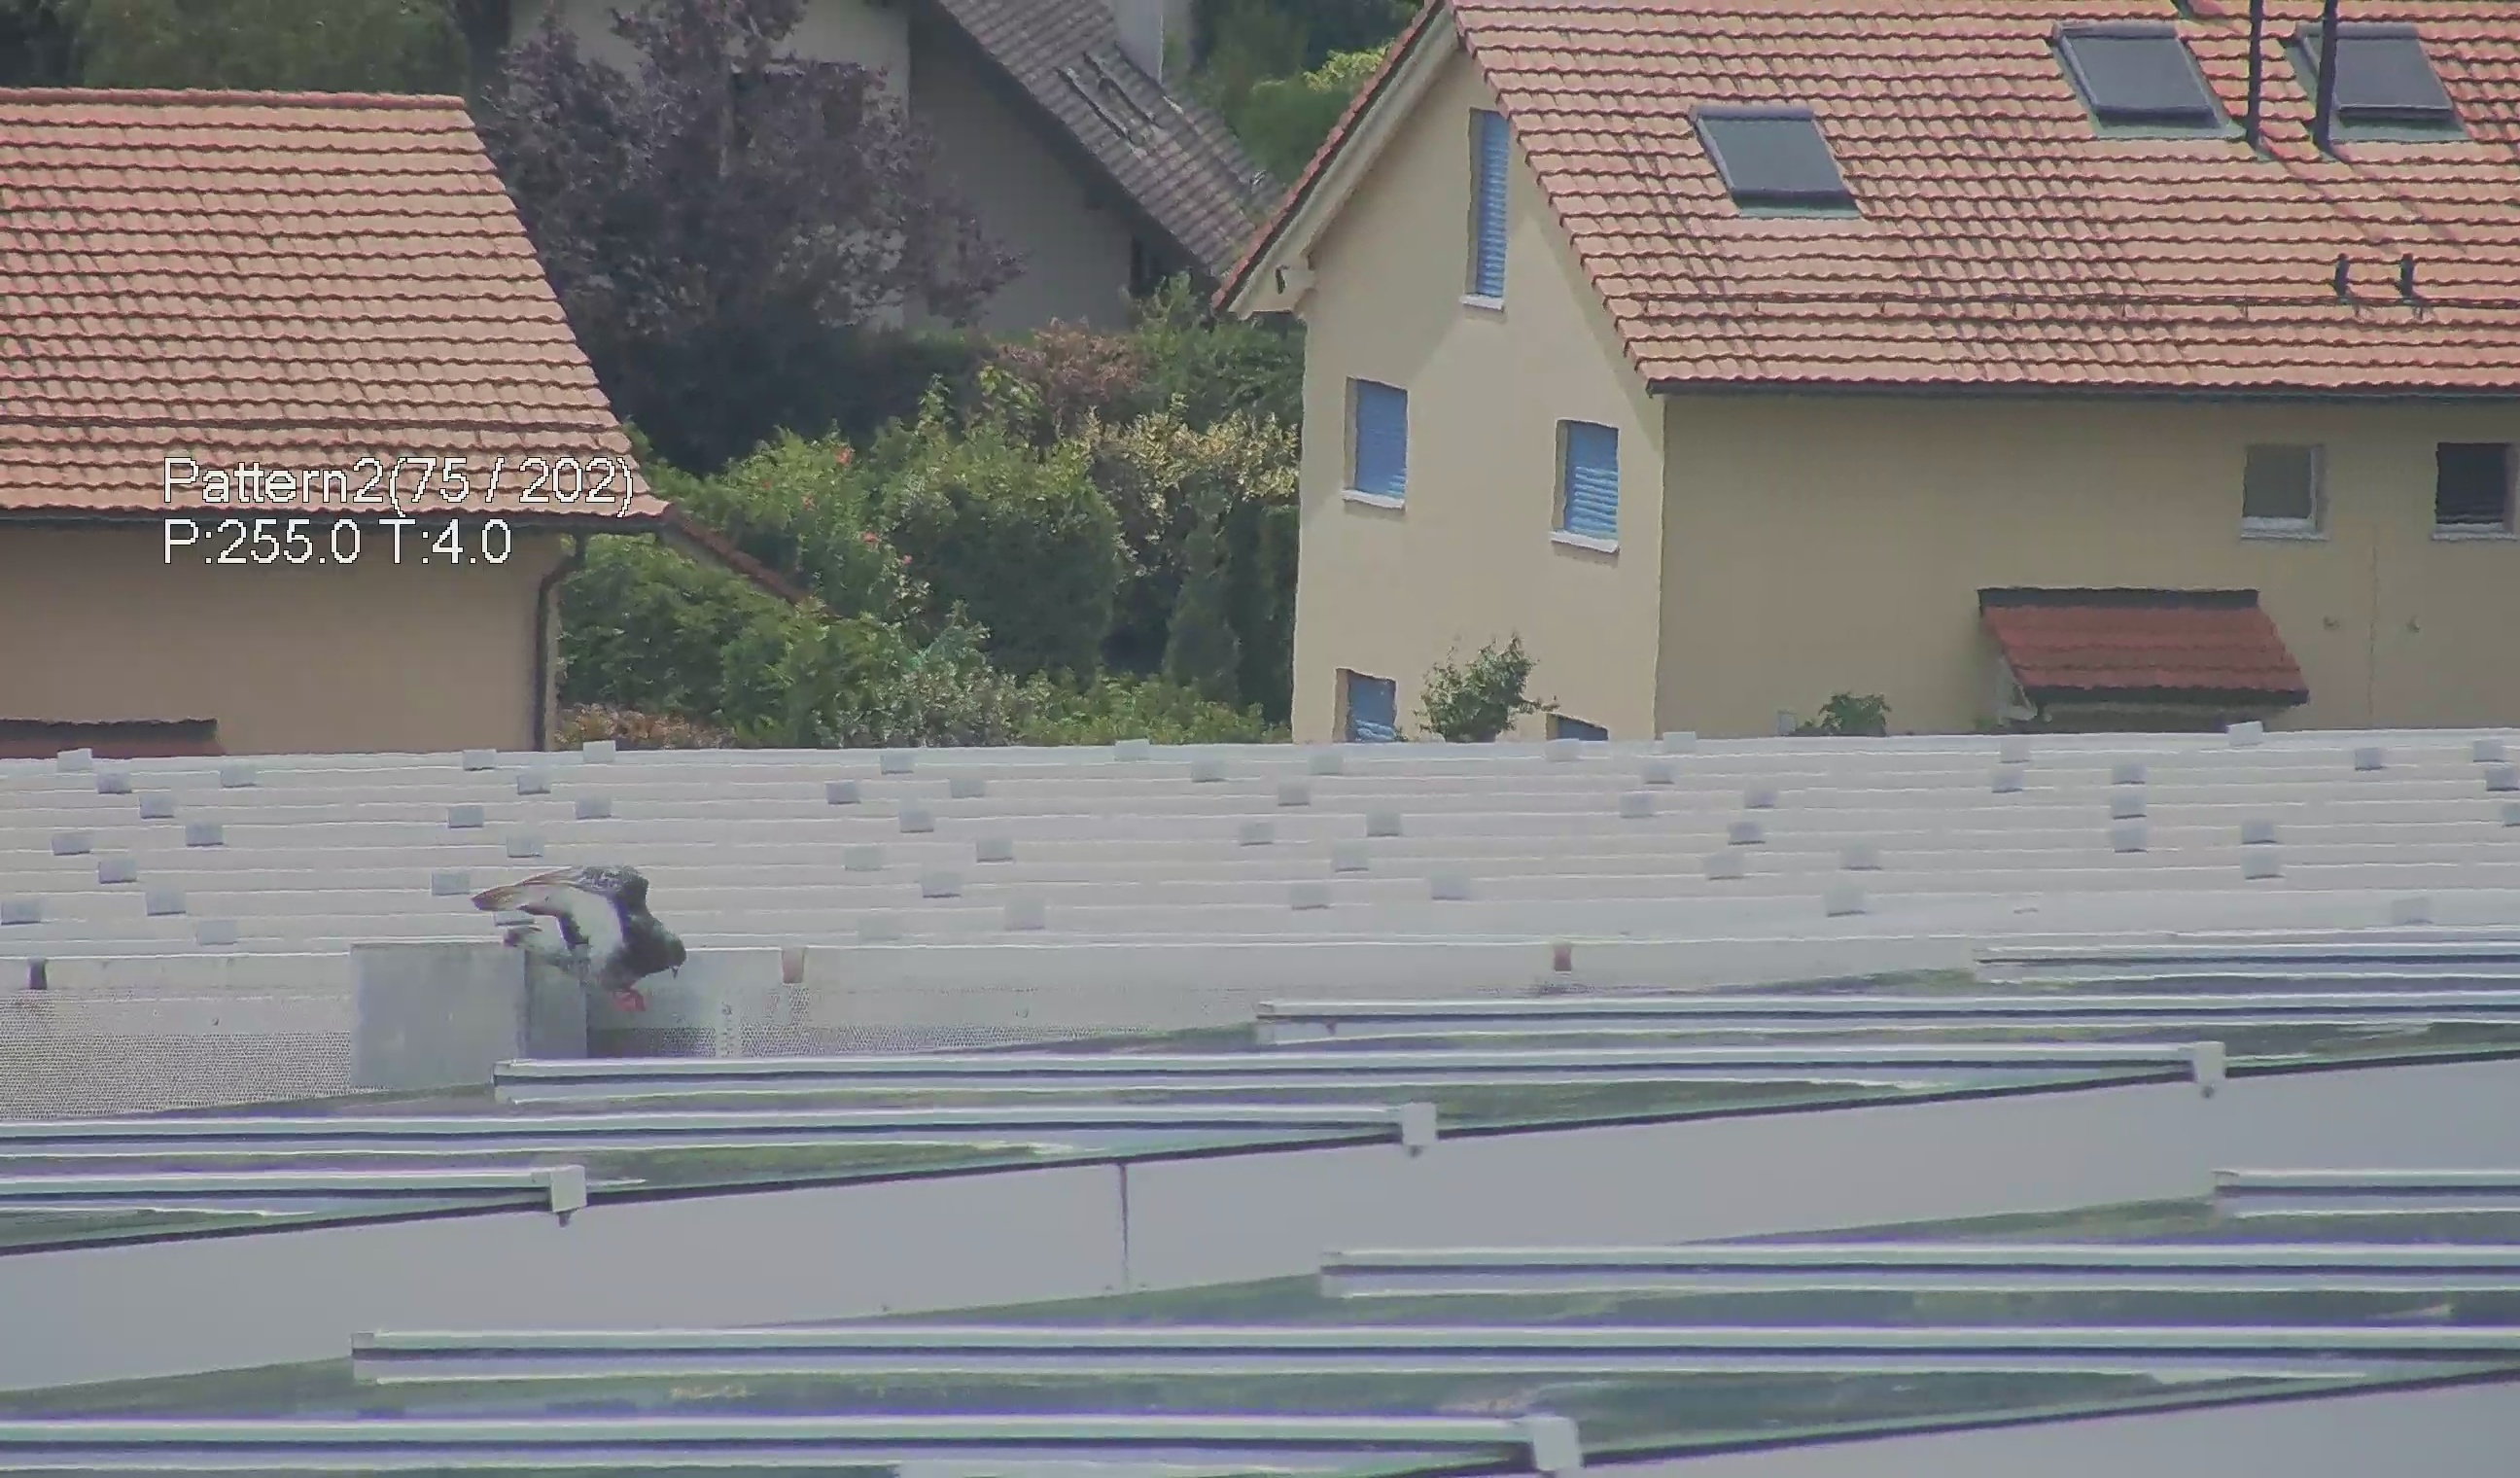Pigeon: (468, 850, 674, 1022)
